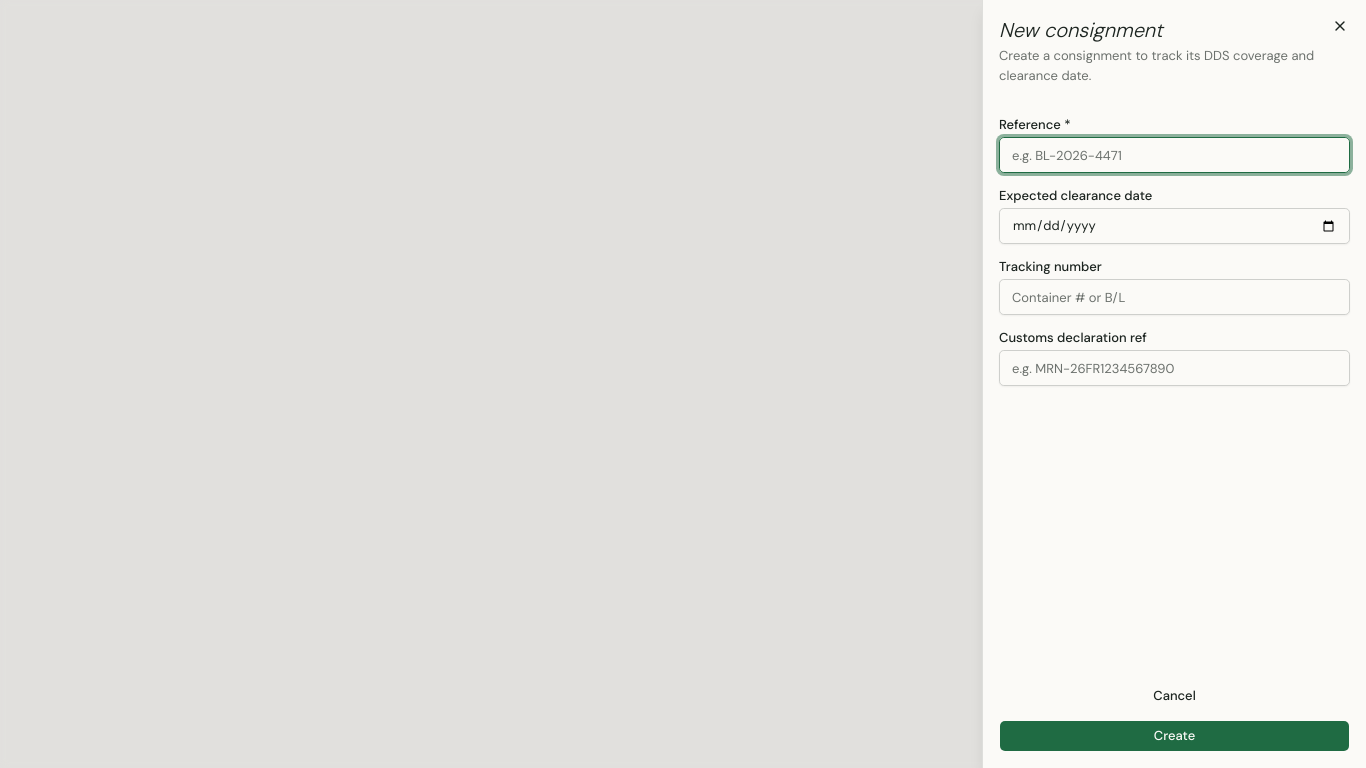
Test: ConsignmentForm (create) › blocks submit when reference is empty
What coordinates should you click on to do the following:
click the button "Create"
I would click on:
 (1174, 736)
Its box is [999, 720, 1350, 752].
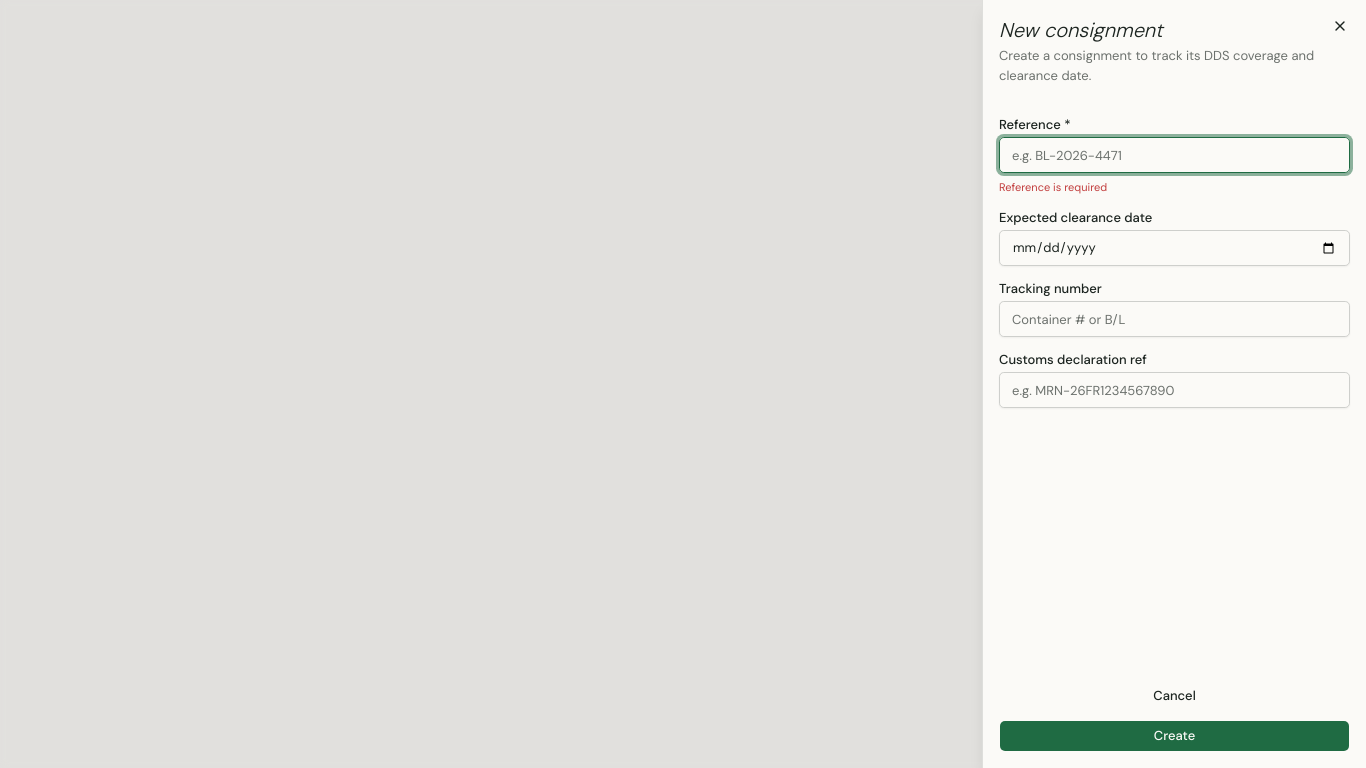
expect the text "Reference is required" is shown: met, box [999, 180, 1107, 194]
